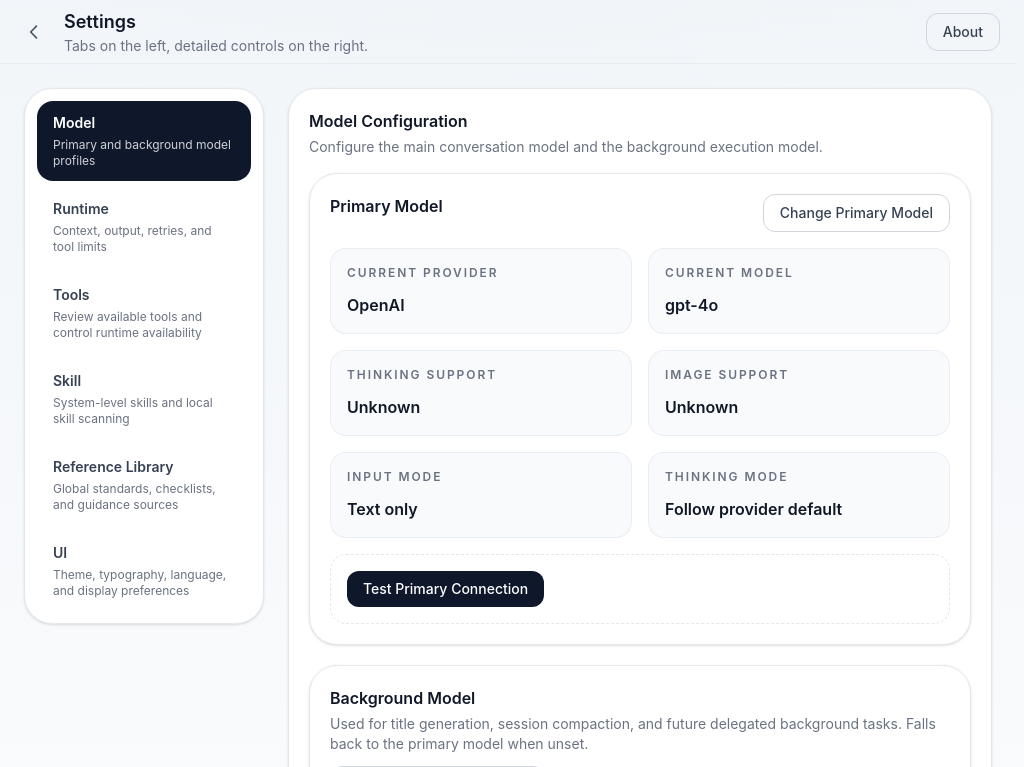
SettingsPage › loads reference index status once per standard root instead of refetching on every render
Click the button that starts with "Reference Library". click: (144, 485)
box: [37,445,251,525]
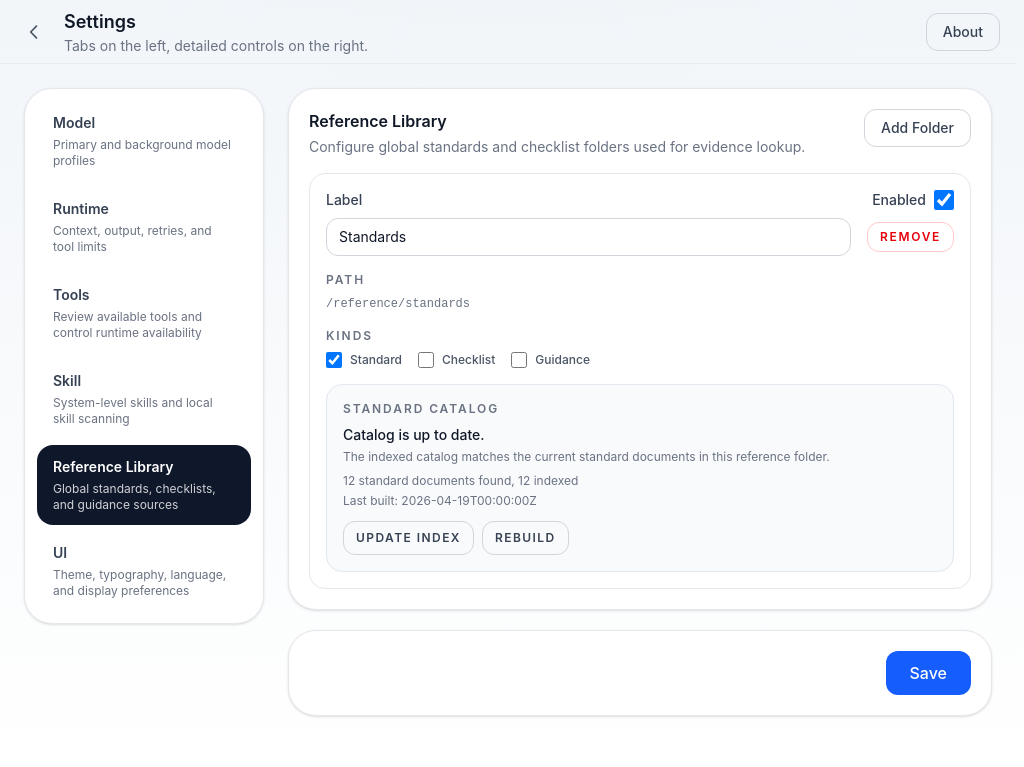
Expected: the text "Catalog is up to date." is shown, [343,426,484,443]
